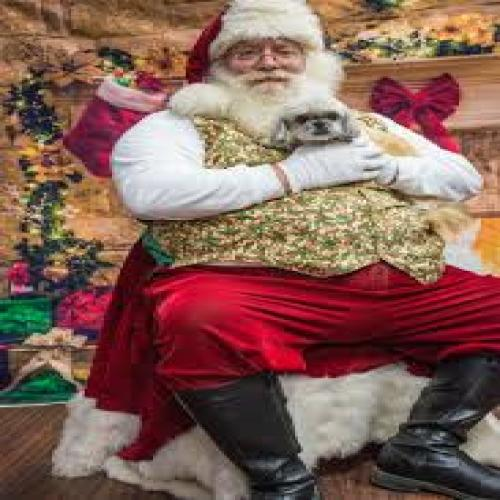Santa: (113, 0, 500, 500)
